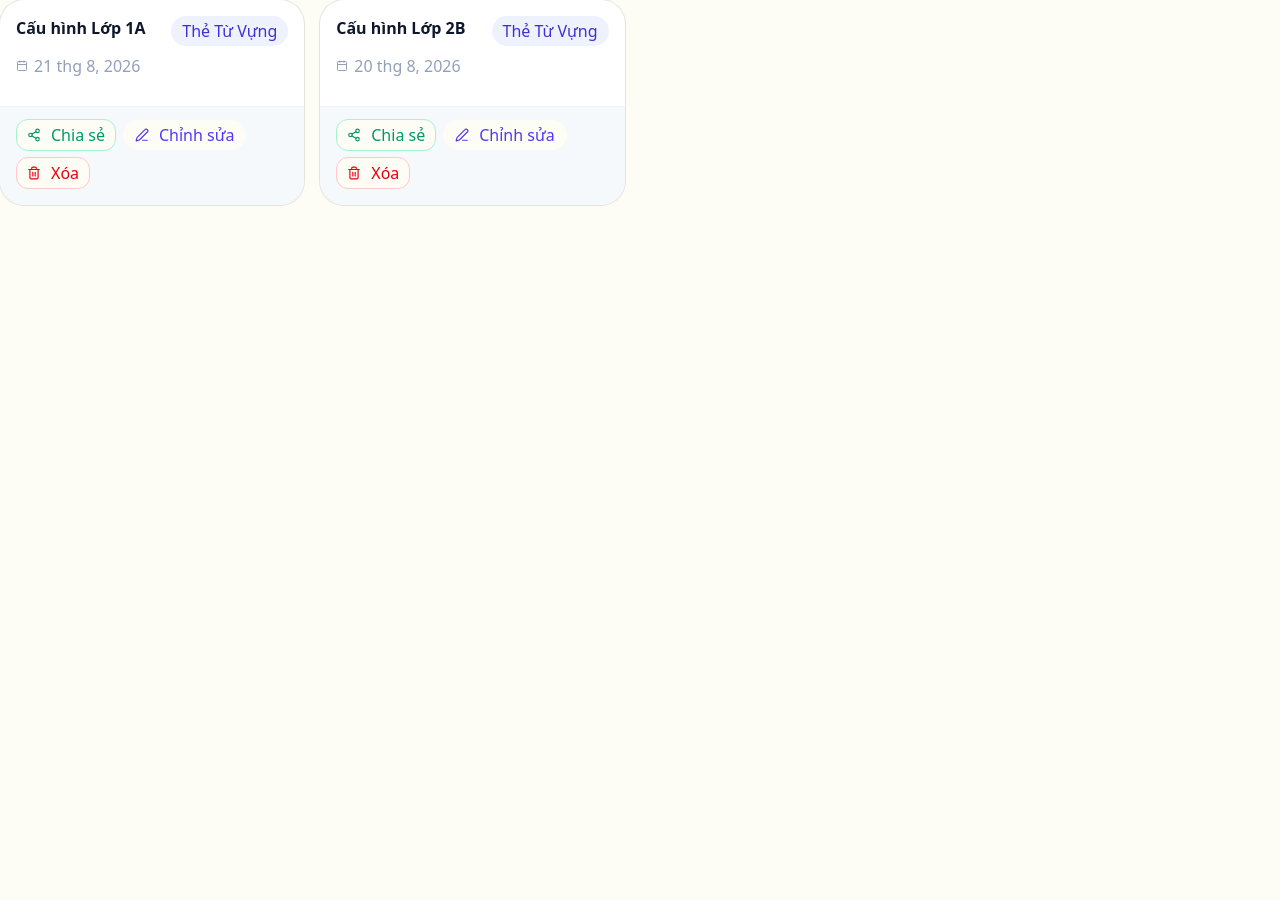
Test: ConfigList Component › opens delete dialog when delete button is clicked
What coordinates should you click on to do the following:
click the 1st button "Xóa"
I would click on:
 (53, 173)
Its box is 16,157 -> 90,189.
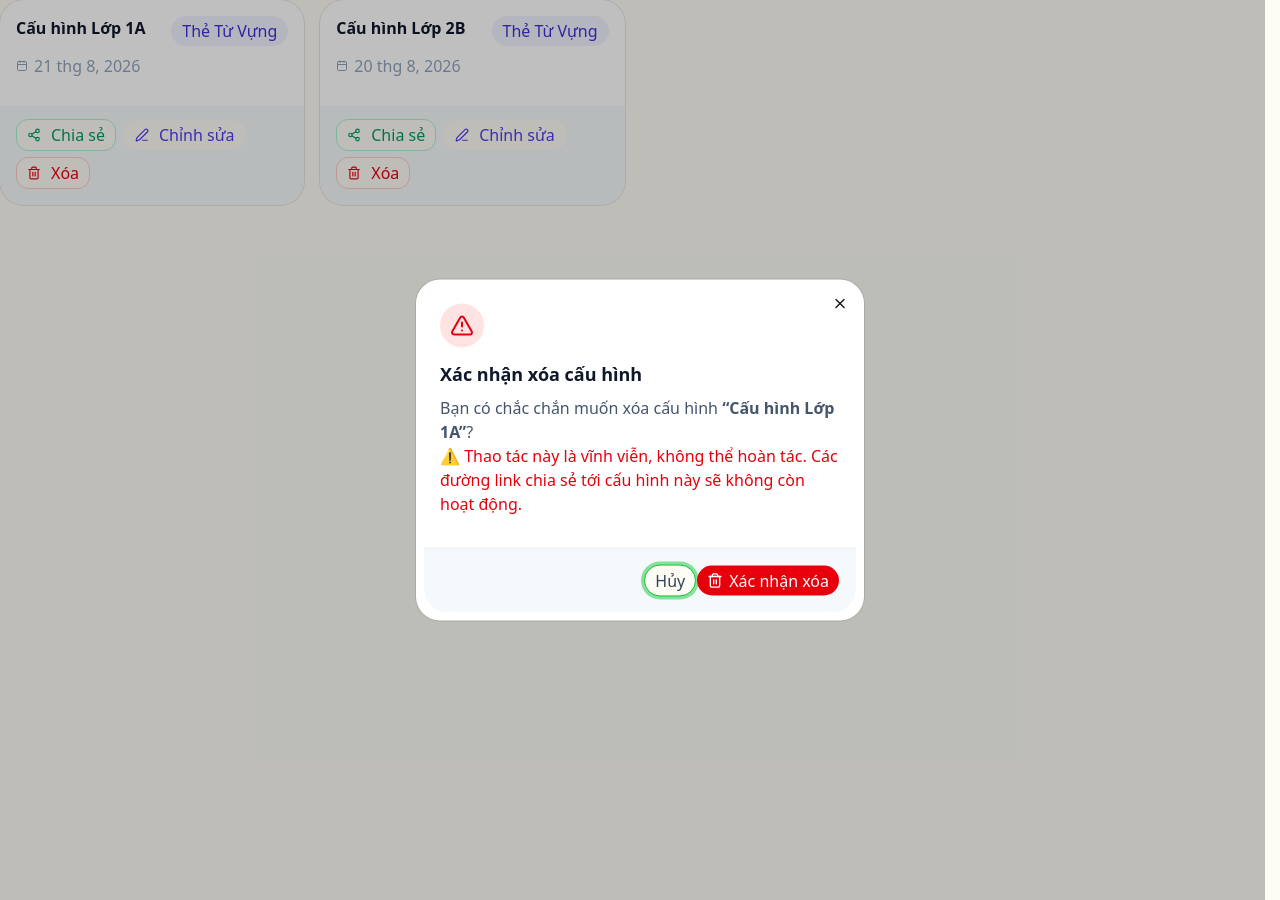
Now the heading "Xác nhận xóa cấu hình" is shown, box 440,362 -> 642,386
